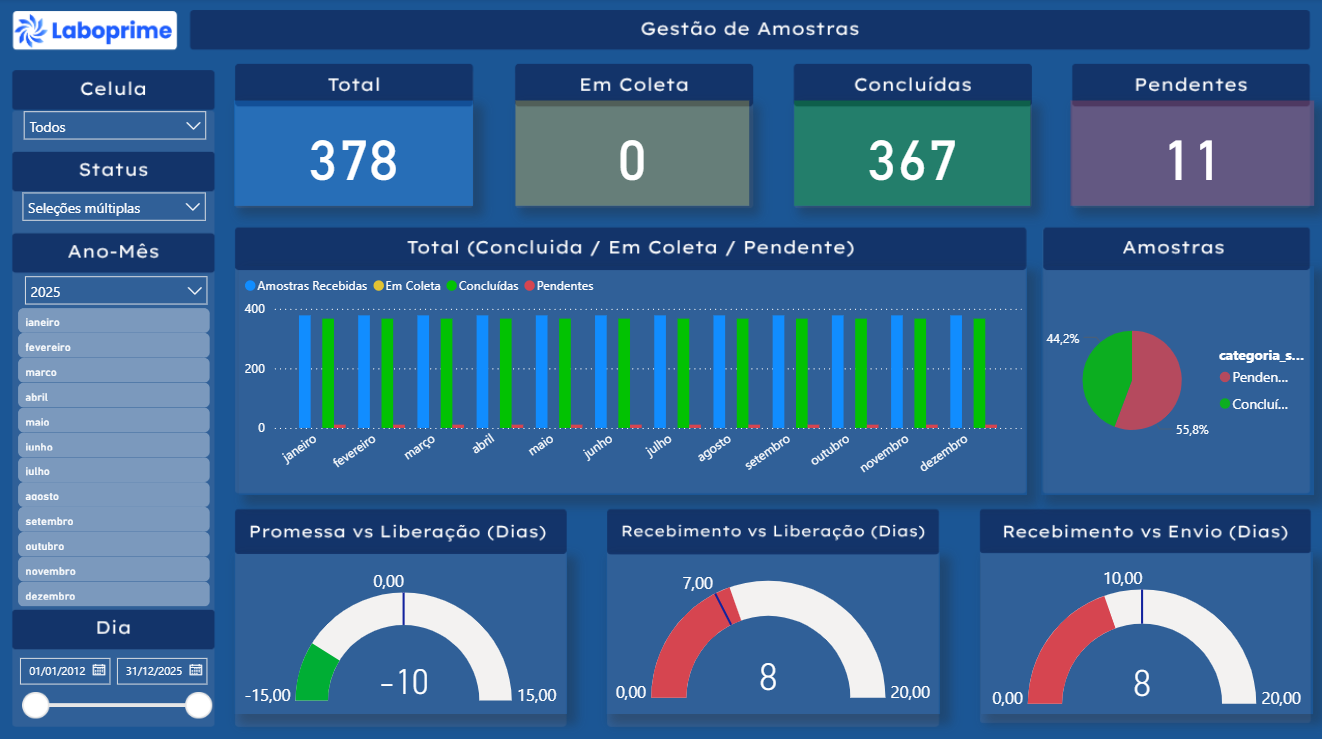

The dashboard page shown, as its layout file describes it:
{"tool":"powerbi","page":{"name":"Gestão Amostras","canvas":[1280,720],"ordinal":0},"visuals":[{"type":"card","fields":{"Values":["_Medidas.Total Amostras Recebidas"]},"box":[228,98.9,230.4,101.3],"z":0},{"type":"card","fields":{"Values":["_Medidas.Qtd Amostras Concluídas (Funil)"]},"box":[768.5,98.9,228,101.3],"z":1000},{"type":"card","fields":{"Values":["_Medidas.Qtd Amostras Pendentes (Funil)"]},"box":[1035.1,98.9,235.3,101.3],"z":2000},{"type":"card","fields":{"Values":["_Medidas.Qtd Amostras em Coleta (Funil)"]},"box":[499.5,98.9,225.6,101.3],"z":3000},{"type":"pieChart","fields":{"Category":["vw_bi_tecnico_operacional.categoria_status"],"Y":["_Medidas.Total Amostras Recebidas"]},"box":[1006.2,258.2,264.2,222],"z":4000},{"type":"clusteredColumnChart","fields":{"Category":["dCalendario.Ano","dCalendario.Mes"],"Y":["_Medidas.Total Amostras Recebidas","_Medidas.Qtd Amostras em Coleta (Funil)","_Medidas.Qtd Amostras Concluídas (Funil)","_Medidas.Qtd Amostras Pendentes (Funil)"]},"box":[232.8,258.2,760.1,222],"z":5000},{"type":"gauge","fields":{"Y":["_Medidas.TAT Média (Promessa vs Liberação)"]},"box":[228,534.5,320.9,156.8],"z":6000},{"type":"gauge","fields":{"Y":["_Medidas.TAT Média (Recebimento vs Liberação)"]},"box":[586.3,534.5,323.3,156.8],"z":7000},{"type":"gauge","fields":{"Y":["_Medidas.TAT Média (Recebimento vs Envio)"]},"box":[948.3,534.5,320.9,156.8],"z":8000},{"type":"slicer","fields":{"Values":["vw_bi_tecnico_operacional.celula_realizada_nome"]},"box":[13.9,99,196.6,44.6],"z":9000},{"type":"slicer","fields":{"Values":["vw_bi_tecnico_operacional.status_amostra_macro"]},"box":[13.2,177.9,197.1,44.1],"z":10000},{"type":"slicer","fields":{"Values":["dCalendario.Ano"]},"box":[15.7,258.2,196.6,44.6],"z":11000},{"type":"advancedSlicerVisual","fields":{"Values":["dCalendario.Mes"]},"box":[14.5,294.4,195,300],"z":12000},{"type":"slicer","fields":{"Values":["dCalendario.Date"]},"box":[13.7,632.1,196.8,71.6],"z":13000}]}

Visuals, with their boxes in screenshot pixels (x1, y1, x2, y2), scaled from the page's 1280x720 canvas onto the 1322x739 screenshot:
card - _Medidas.Total Amostras Recebidas: {"left": 235, "top": 102, "right": 473, "bottom": 205}
card - _Medidas.Qtd Amostras Concluídas (Funil): {"left": 794, "top": 102, "right": 1029, "bottom": 205}
card - _Medidas.Qtd Amostras Pendentes (Funil): {"left": 1069, "top": 102, "right": 1312, "bottom": 205}
card - _Medidas.Qtd Amostras em Coleta (Funil): {"left": 516, "top": 102, "right": 749, "bottom": 205}
pieChart - vw_bi_tecnico_operacional.categoria_status x _Medidas.Total Amostras Recebidas: {"left": 1039, "top": 265, "right": 1312, "bottom": 493}
clusteredColumnChart - dCalendario.Ano x dCalendario.Mes: {"left": 240, "top": 265, "right": 1025, "bottom": 493}
gauge - _Medidas.TAT Média (Promessa vs Liberação): {"left": 235, "top": 549, "right": 567, "bottom": 710}
gauge - _Medidas.TAT Média (Recebimento vs Liberação): {"left": 606, "top": 549, "right": 939, "bottom": 710}
gauge - _Medidas.TAT Média (Recebimento vs Envio): {"left": 979, "top": 549, "right": 1311, "bottom": 710}
slicer - vw_bi_tecnico_operacional.celula_realizada_nome: {"left": 14, "top": 102, "right": 217, "bottom": 147}
slicer - vw_bi_tecnico_operacional.status_amostra_macro: {"left": 14, "top": 183, "right": 217, "bottom": 228}
slicer - dCalendario.Ano: {"left": 16, "top": 265, "right": 219, "bottom": 311}
advancedSlicerVisual - dCalendario.Mes: {"left": 15, "top": 302, "right": 216, "bottom": 610}
slicer - dCalendario.Date: {"left": 14, "top": 649, "right": 217, "bottom": 722}
